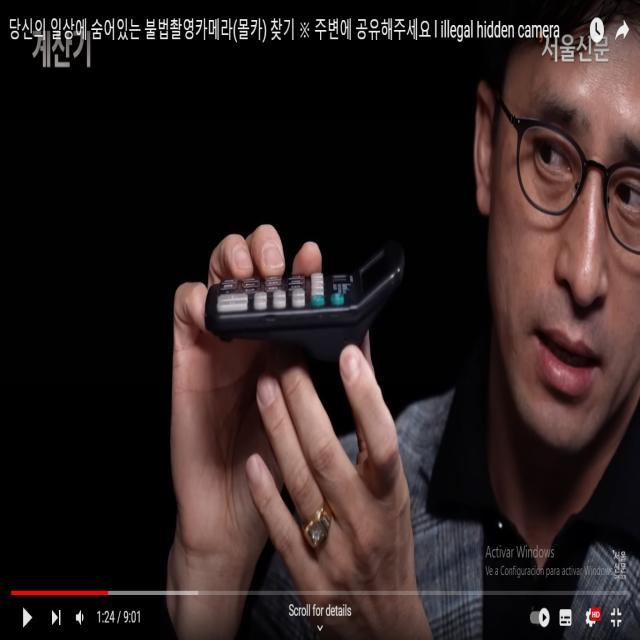hidden camera: (343, 334, 348, 343)
